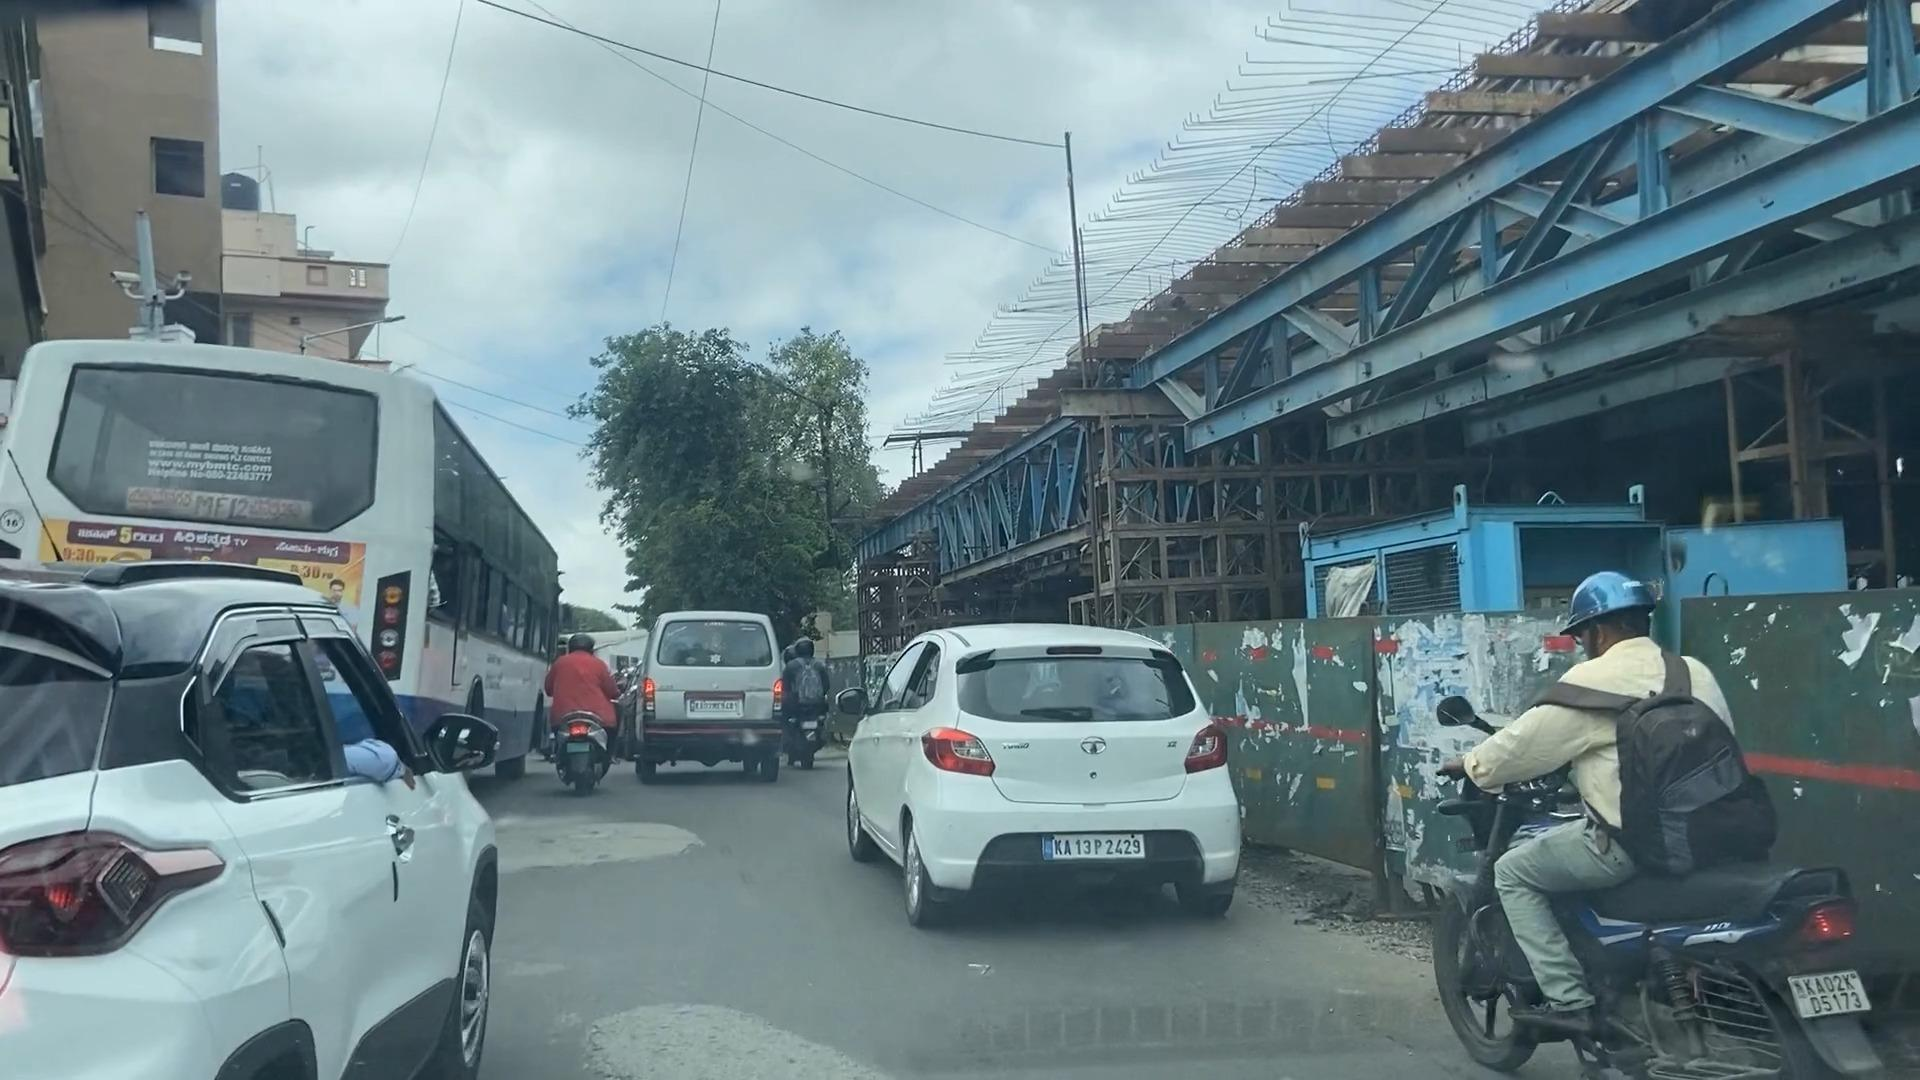LMV: (1486, 611, 1816, 1063), (924, 624, 1232, 947), (647, 608, 767, 774), (546, 622, 612, 795)
RoadDamages: (582, 998, 884, 1080), (506, 814, 704, 877)
